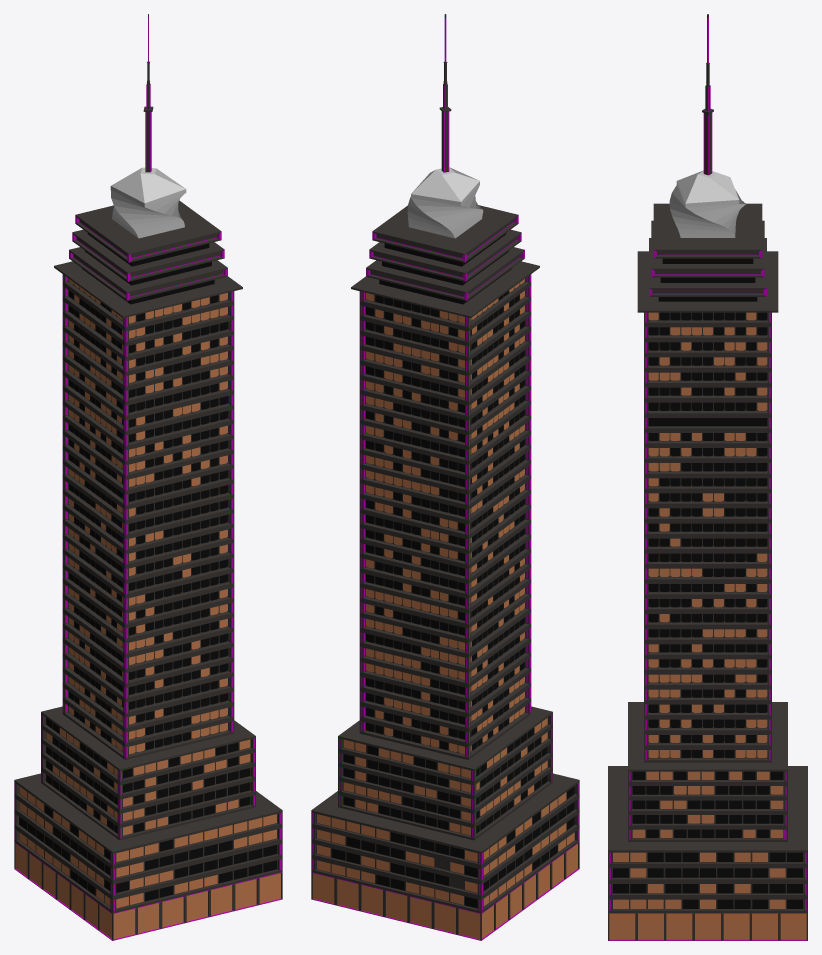
File: building_2.obj
3 renders of one model, left to right at view 1: azimuth 30°, elevation 25°; view 2: azimuth 150°, elevation 25°; view 3: azimuth 270°, elevation 25°, orthographic.
Visible parts, largest first — view 1: Cube; view 2: Cube; view 3: Cube.
Part boxes in pixels (box(x1,y1,x2,y2)): Cube: box(14, 14, 282, 940); Cube: box(311, 14, 579, 940); Cube: box(608, 14, 807, 940).
Bounding box in the file's own units: 10 × 48.82 × 10.
